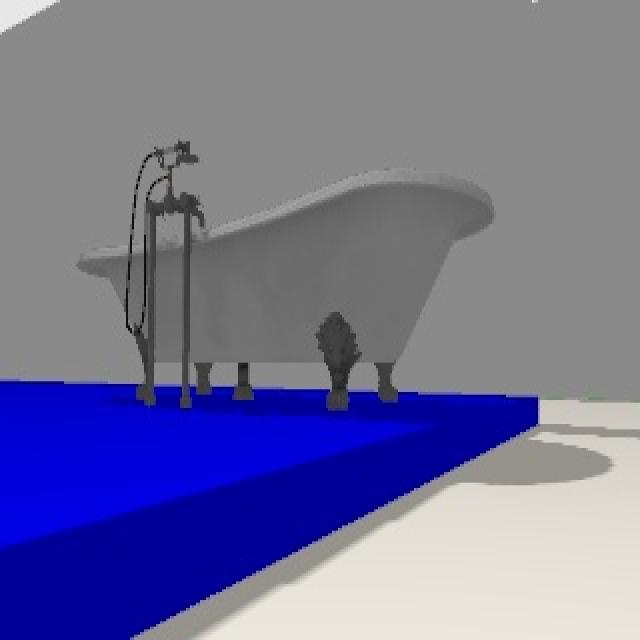bathtub: (76, 139, 488, 409)
